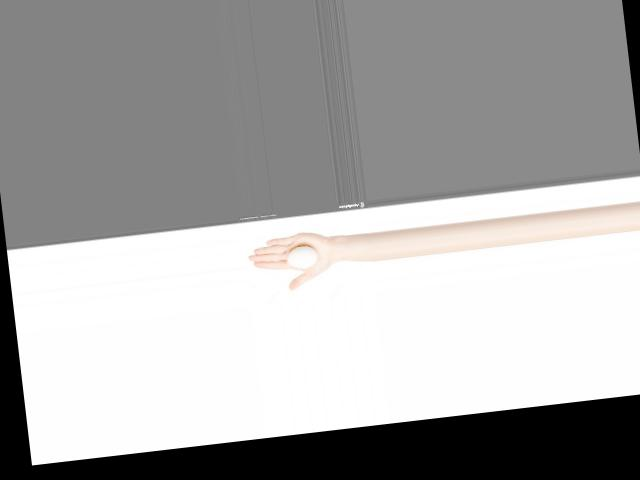egg: (285, 245, 318, 269)
